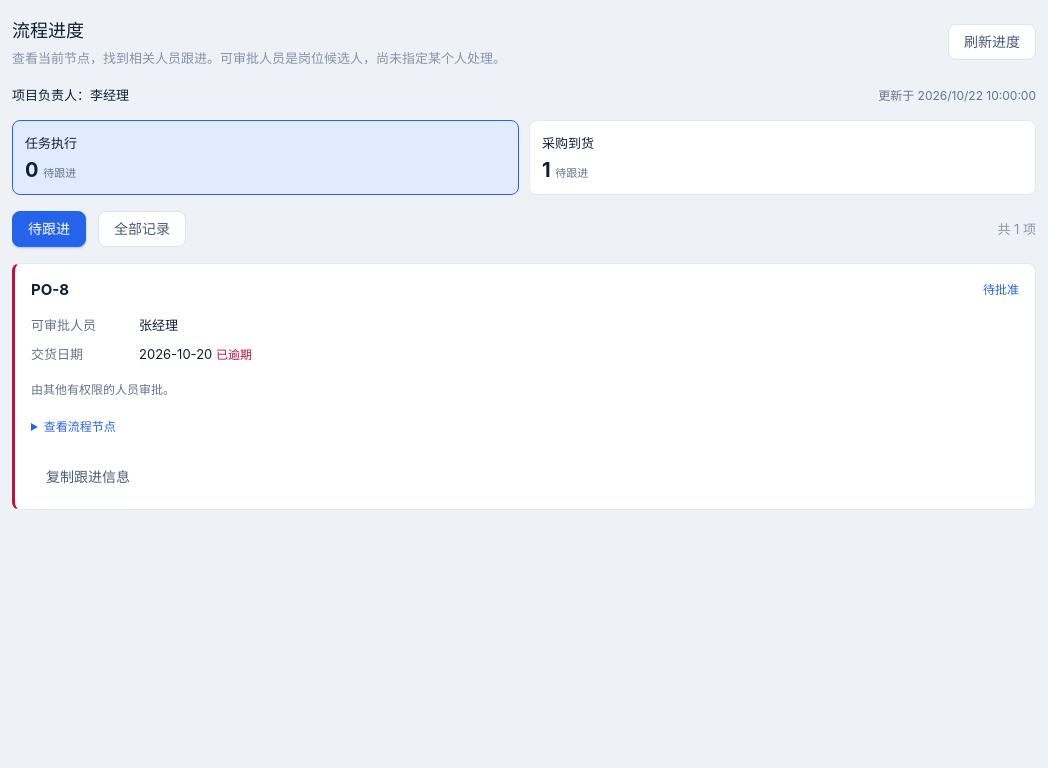
Test: 流程相关人员进度展示 › 只复制跟进文字、不发送通知；复制失败保留手动复制提示
Click the button "复制跟进信息" at (88, 477), box [31, 461, 145, 493]
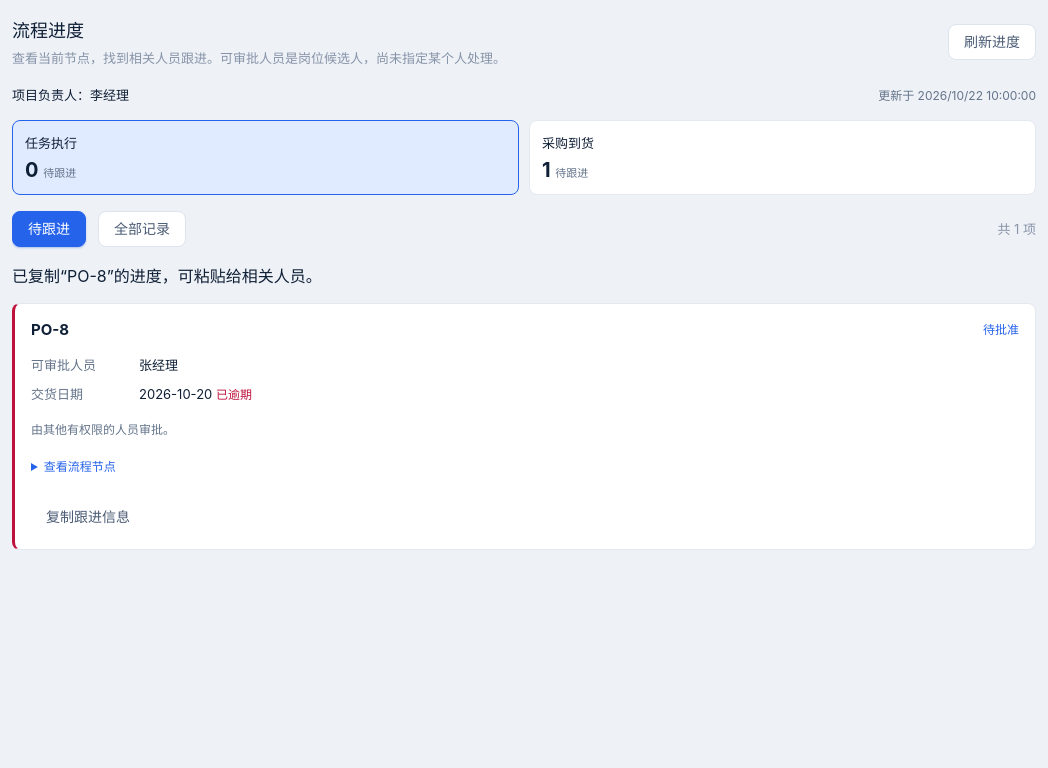
Expected: the text "已复制" is shown, [12, 266, 322, 286]
Click the button "复制跟进信息" at (88, 517), box [31, 501, 145, 533]
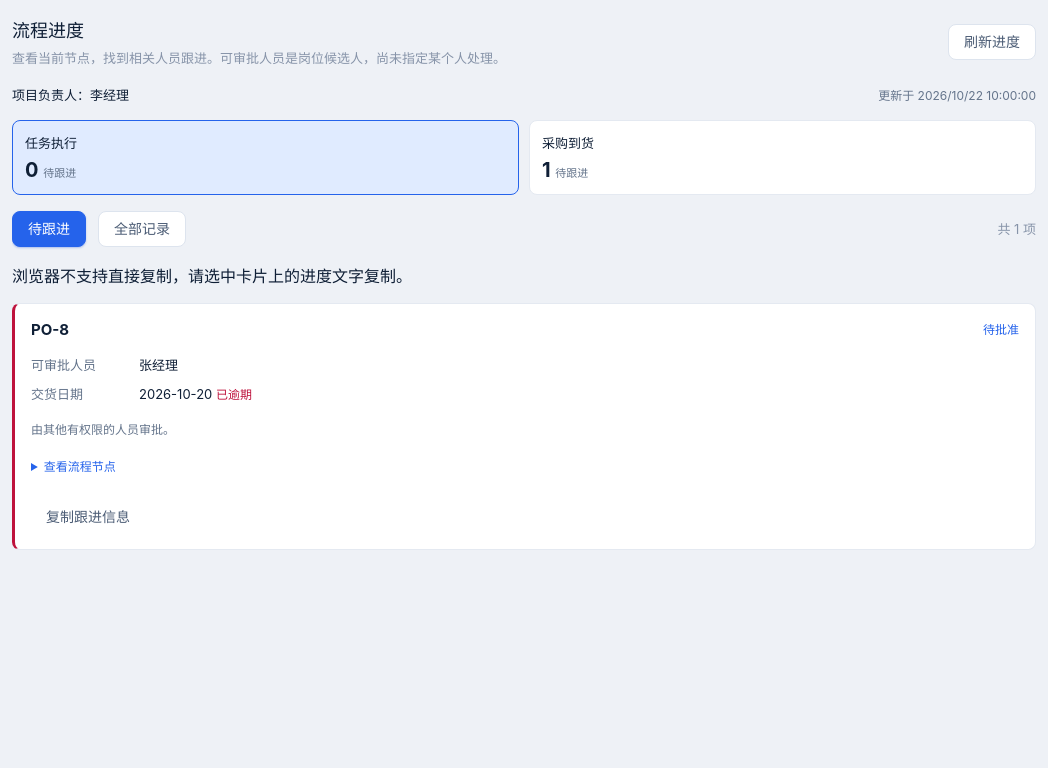
Expected: the text "请选中卡片上的进度文字复制" is shown, [12, 266, 412, 286]
